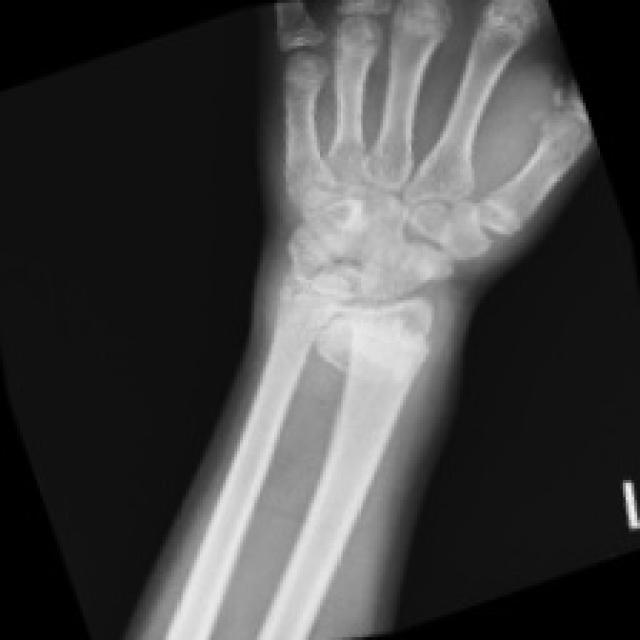fracture: (437, 186, 546, 275), (277, 17, 361, 104)
